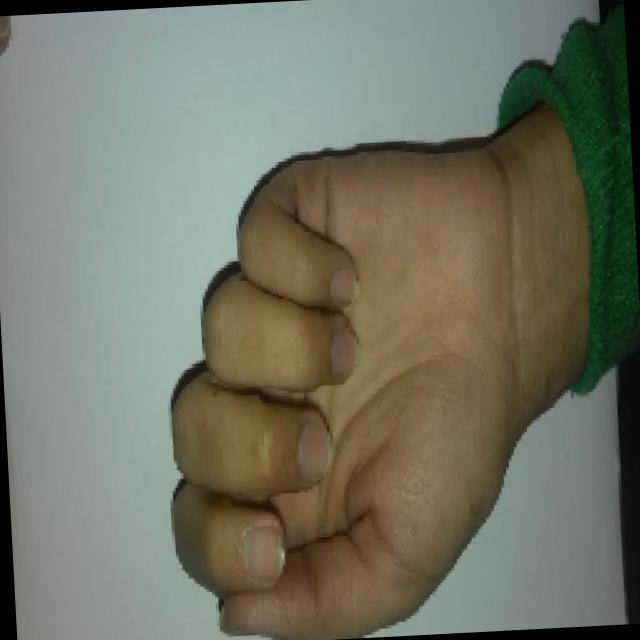Nail: (239, 523, 285, 582), (296, 417, 331, 484), (329, 325, 355, 376), (328, 269, 356, 305)
